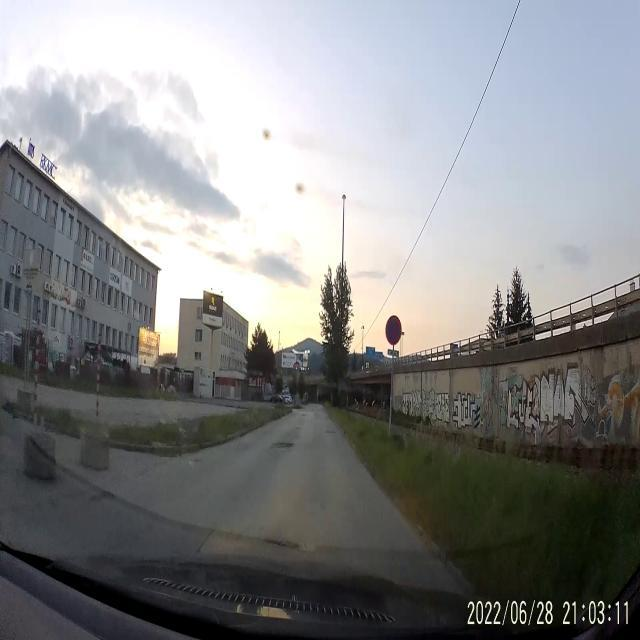Pothole: (264, 529, 298, 551), (91, 488, 114, 505), (270, 439, 294, 455), (324, 427, 336, 437)
